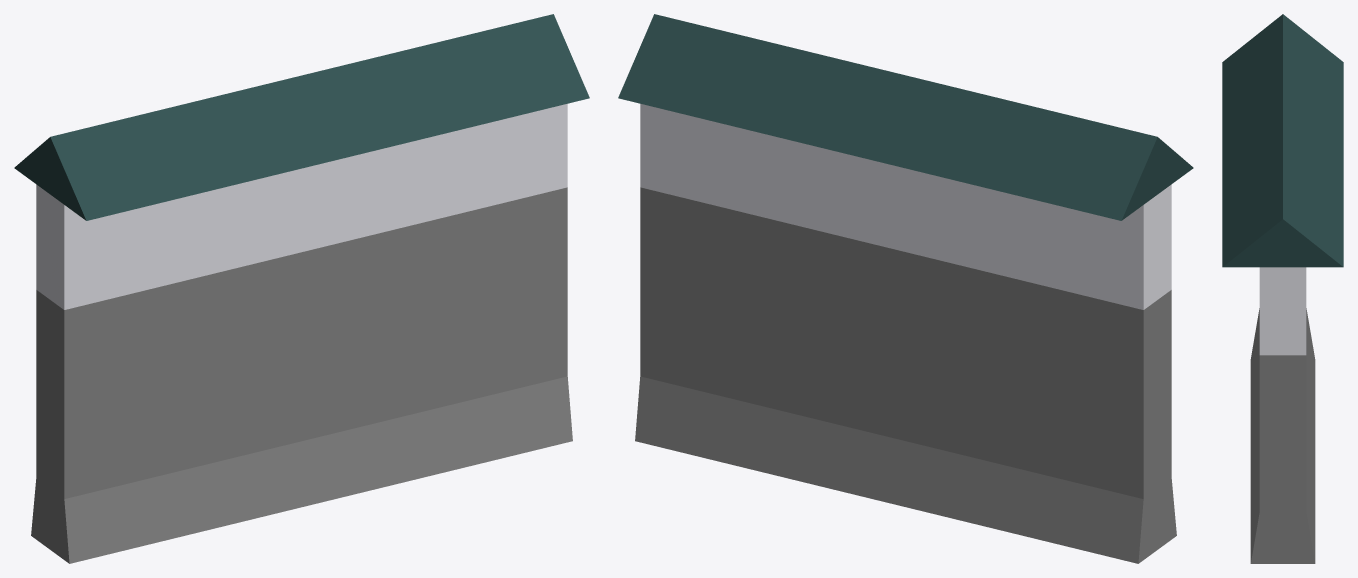
The model's file is Asian_Prop_Building_Fence_Wall_High_01.FBX.
3 views of the same model, side by side, from view 1: azimuth 30°, elevation 25°; view 2: azimuth 150°, elevation 25°; view 3: azimuth 270°, elevation 25° (orthographic). The views are drawn at different scales.
Parts seen in each view (by area): view 1: Asian_Prop_Building_Fence_Wall_High_01; view 2: Asian_Prop_Building_Fence_Wall_High_01; view 3: Asian_Prop_Building_Fence_Wall_High_01.
Part boxes in pixels (x1,y1,x2,y2): Asian_Prop_Building_Fence_Wall_High_01: (14, 14, 589, 563); Asian_Prop_Building_Fence_Wall_High_01: (618, 14, 1193, 563); Asian_Prop_Building_Fence_Wall_High_01: (1222, 14, 1343, 563).
Bounding box in the file's own units: 5167 × 4051 × 1290.
